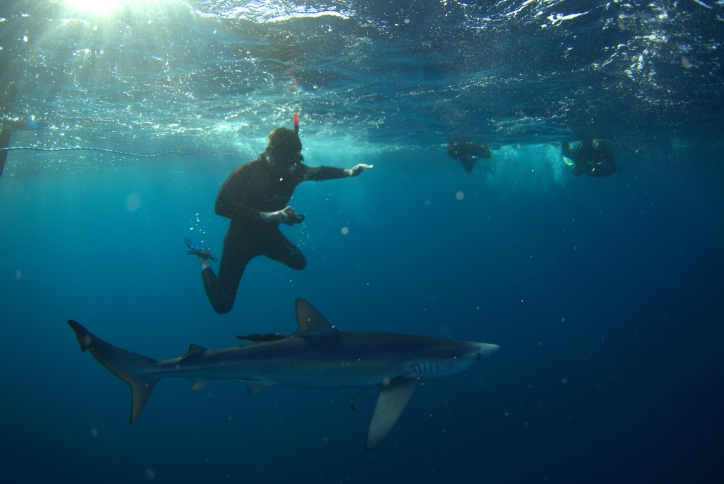Azul: (60, 291, 507, 452)
